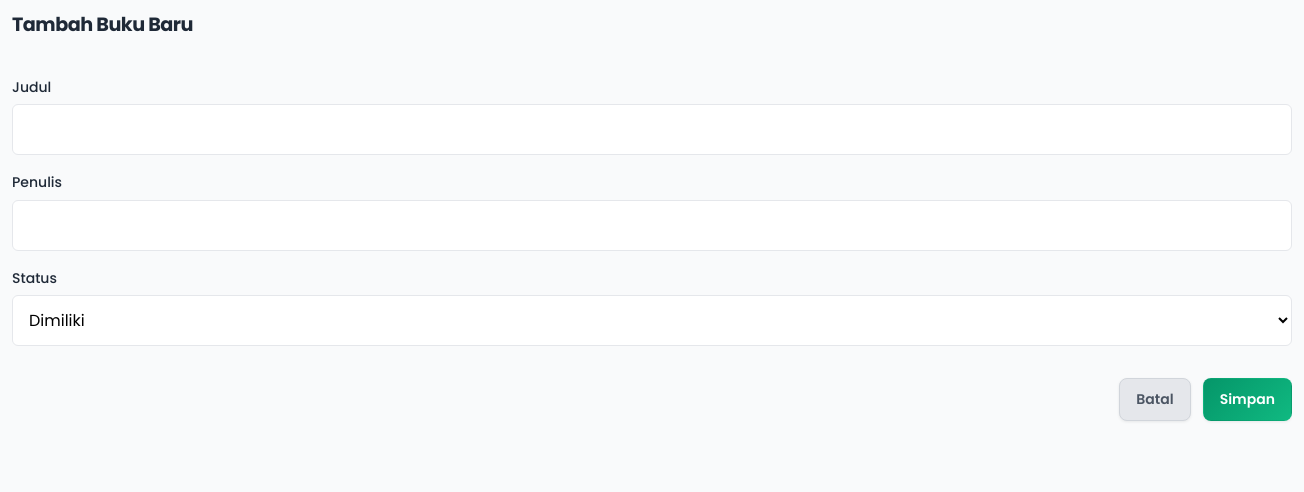
BookForm Component › seharusnya menampilkan error jika judul dan penulis kosong
Click the button "Simpan" at (1247, 400), box [1203,378,1292,421]
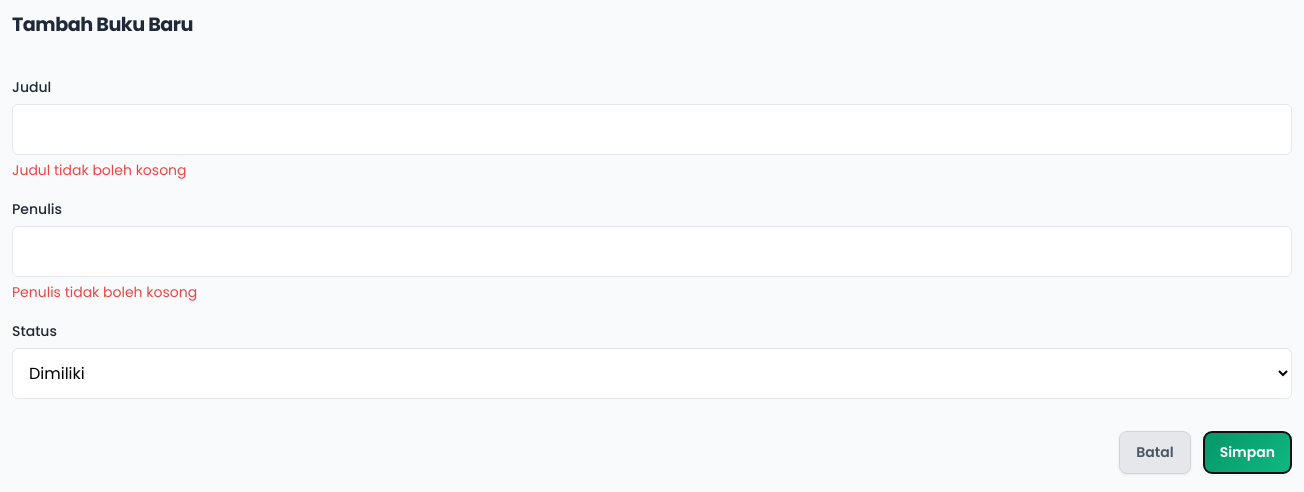
Check: the text "Judul tidak boleh kosong" is shown, box [12,160,186,180]
Check: the text "Penulis tidak boleh kosong" is shown, box [12,282,197,302]
